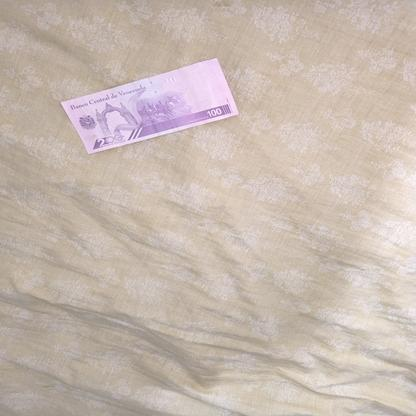one_hundred-back-vef: (59, 56, 239, 154)
